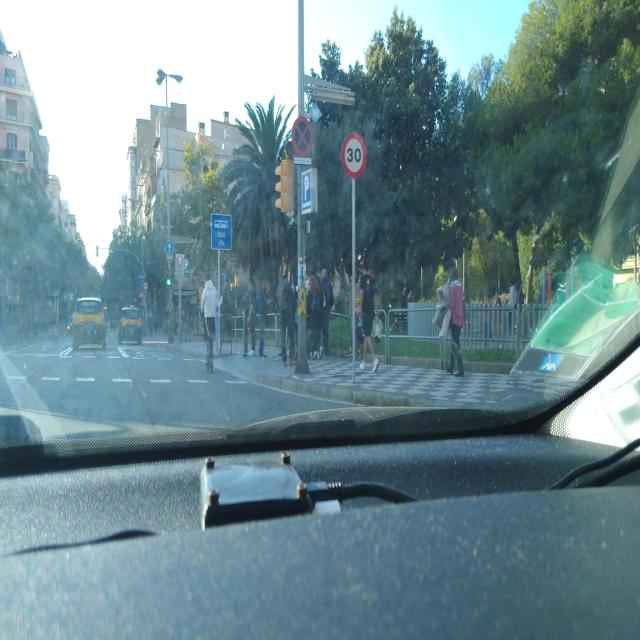car: (507, 268, 640, 396), (72, 294, 106, 350), (117, 306, 143, 345), (66, 314, 74, 334)
